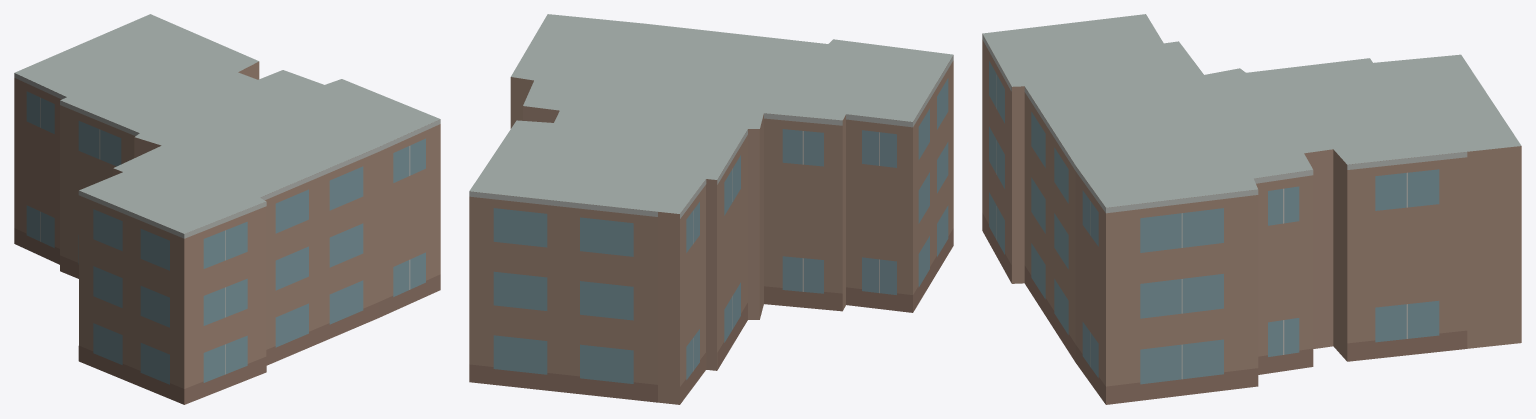
Rendered from survey-upis-32466692.glb.
3 views of the same model, side by side, from view 1: azimuth 30°, elevation 25°; view 2: azimuth 150°, elevation 25°; view 3: azimuth 270°, elevation 25° (orthographic). The views are drawn at different scales.
Visible parts, largest first — view 1: survey-upis-32466692.tmp; view 2: survey-upis-32466692.tmp; view 3: survey-upis-32466692.tmp.
Boxes of the visible parts, x1,y1,x2,y2 form: survey-upis-32466692.tmp: (14,14,440,404); survey-upis-32466692.tmp: (469,14,953,404); survey-upis-32466692.tmp: (982,14,1521,404).
Bounding box in the file's own units: 18.36 × 8.7 × 21.59.
